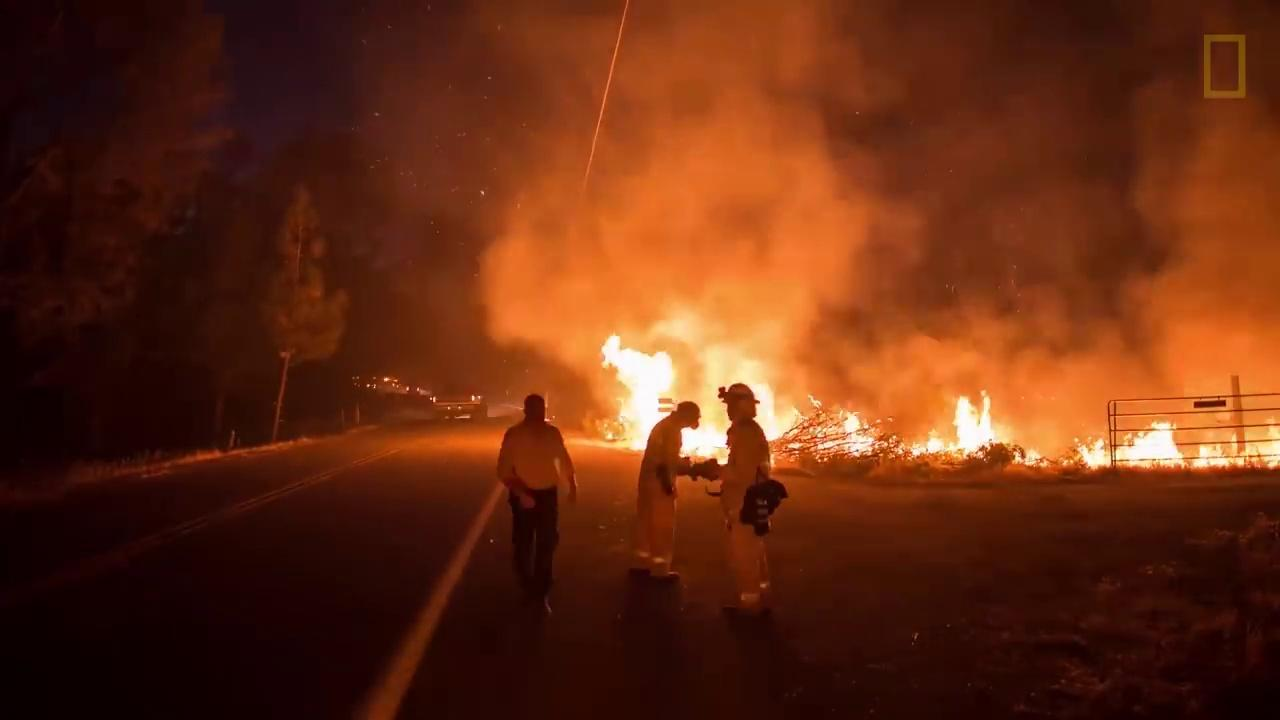Fire: (595, 339, 796, 453), (814, 396, 999, 466), (1077, 424, 1280, 472)
